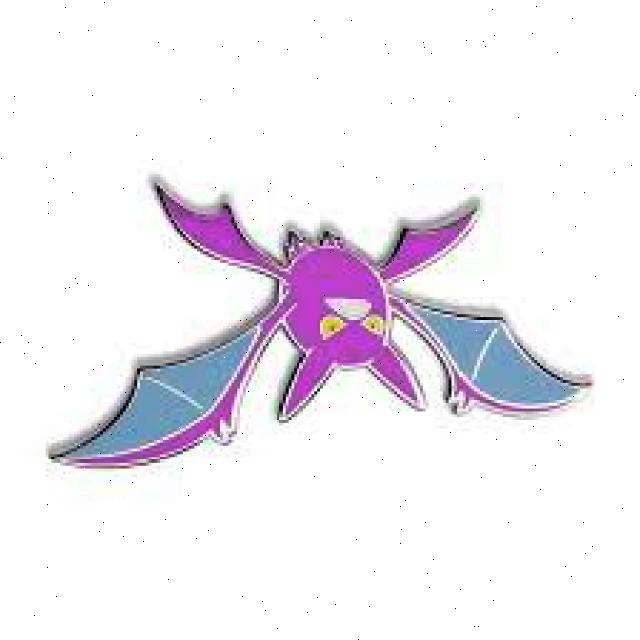crobat: (44, 176, 598, 474)
